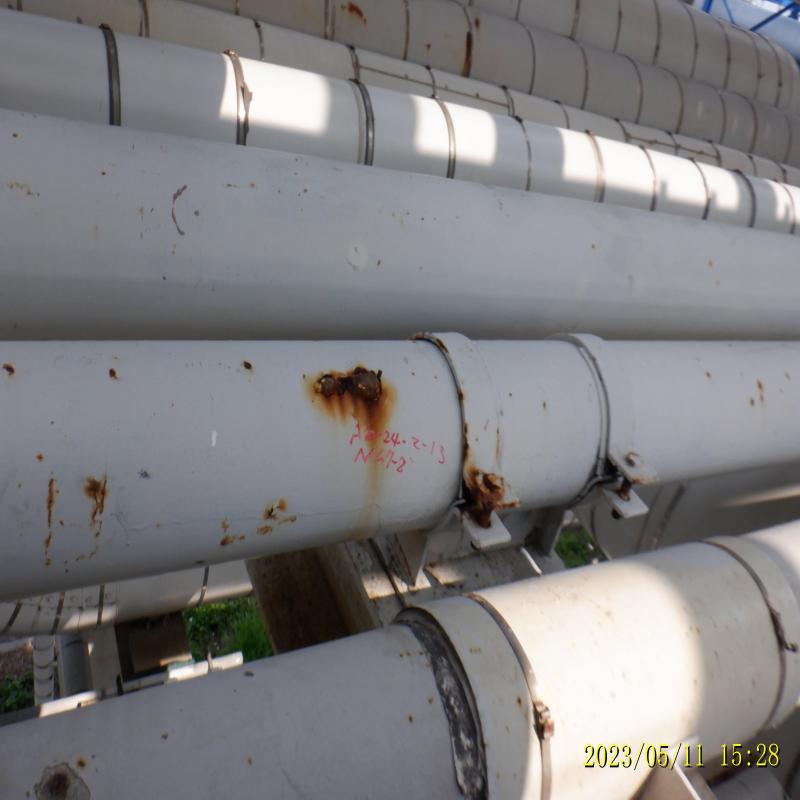corrosion: (309, 364, 389, 415)
